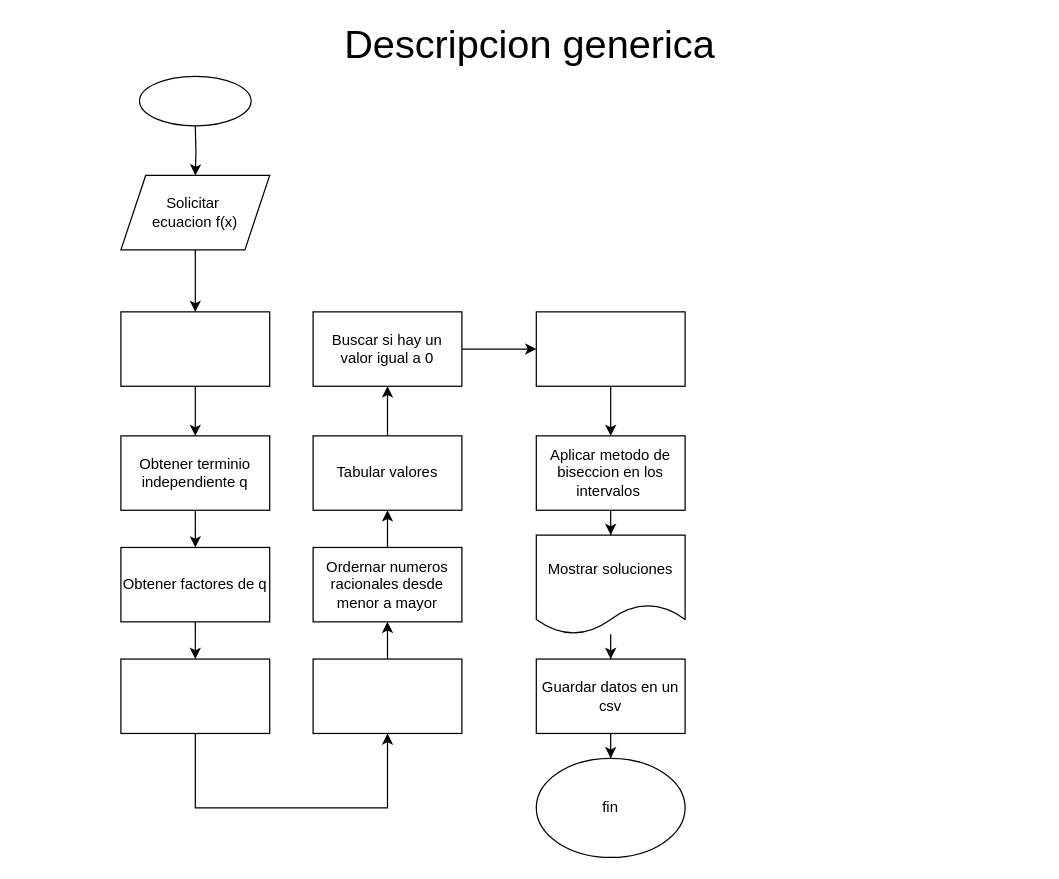
The diagram is 1059 pixels wide and 879 high, and some of its shapes have lost their labels. The shapes that lost their labels are listed below. From the top down, each one's centre as x and y in pixels, then its label:
At point (194, 100): "Inicio".
At point (195, 348): "obtener termino dominante q".
At point (610, 348): "Buscar cambios de signo para definir intervalos".
At point (195, 695): "Obtener factores de p".
At point (387, 695): "Obtener numeros racionales de p/q".
